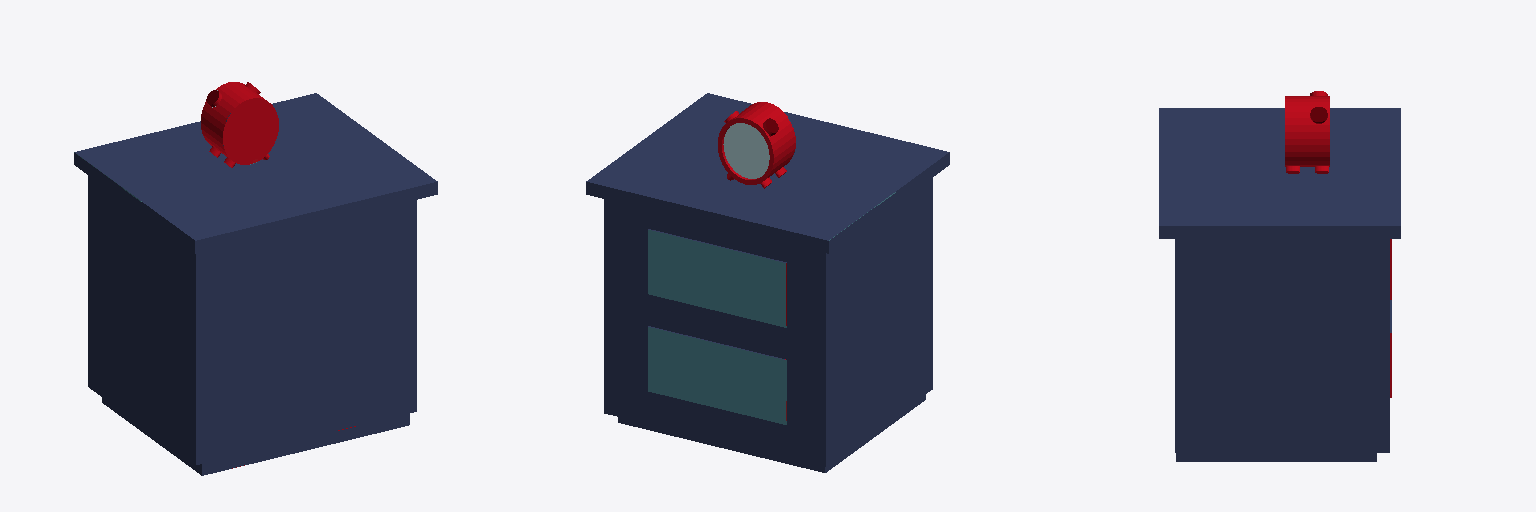
3 views of the same model, side by side, from view 1: azimuth 30°, elevation 25°; view 2: azimuth 150°, elevation 25°; view 3: azimuth 270°, elevation 25° (orthographic).
Visible parts, largest first — view 1: Cube.017_Cube.032; view 2: Cube.017_Cube.032; view 3: Cube.017_Cube.032.
Part boxes in pixels (bbox=[...]): Cube.017_Cube.032: bbox=[74, 82, 437, 475]; Cube.017_Cube.032: bbox=[586, 93, 949, 472]; Cube.017_Cube.032: bbox=[1159, 91, 1400, 461].
Size of the model in its own units: 10.97 by 13.5 by 9.51.
1 materials, 1 textured.